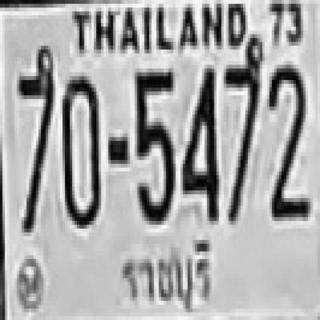N00: (60, 72, 99, 225)
N02: (267, 63, 306, 212)
N04: (180, 66, 217, 219)
N05: (135, 68, 173, 221)
N07: (17, 53, 53, 229), (224, 50, 260, 221)
P52: (118, 229, 220, 320)
